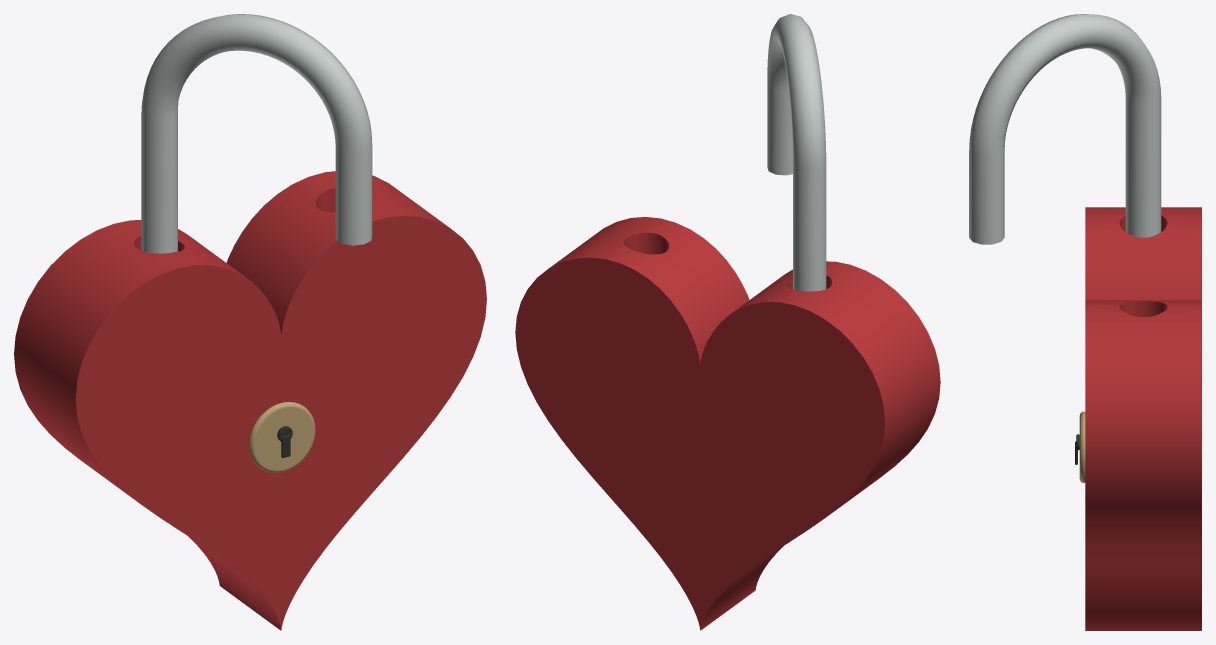
The picture shows the model from 3 angles, left to right: view 1: azimuth 30°, elevation 25°; view 2: azimuth 150°, elevation 25°; view 3: azimuth 270°, elevation 25°; orthographic projection. The views are drawn at different scales.
Visible parts, largest first — view 1: Heart-shaped padlock body, Bent steel bar, Inset brass escutcheon; view 2: Heart-shaped padlock body, Bent steel bar; view 3: Heart-shaped padlock body, Bent steel bar, Inset brass escutcheon.
Part boxes in pixels (bbox=[...]): Heart-shaped padlock body: bbox=[14, 171, 486, 630]; Bent steel bar: bbox=[141, 14, 372, 253]; Inset brass escutcheon: bbox=[249, 402, 315, 472]; Heart-shaped padlock body: bbox=[515, 217, 940, 630]; Bent steel bar: bbox=[767, 14, 826, 291]; Heart-shaped padlock body: bbox=[1085, 207, 1201, 630]; Bent steel bar: bbox=[969, 14, 1161, 244]; Inset brass escutcheon: bbox=[1079, 411, 1085, 482].
Size of the model in its own units: 0.3 by 0.4394 by 0.1554.
